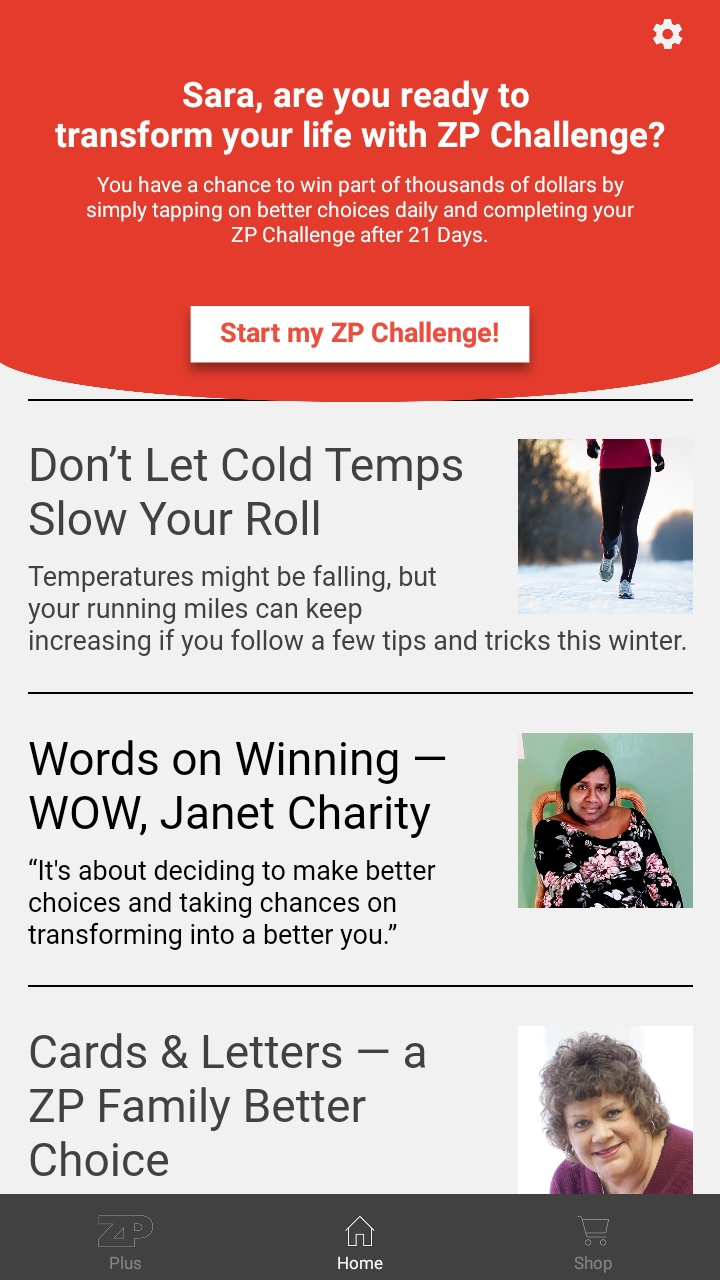Icon: (576, 1216, 610, 1247), (344, 1215, 375, 1247), (652, 19, 683, 51)
Image: (518, 733, 693, 909), (518, 439, 693, 614), (518, 1026, 693, 1194), (98, 1214, 155, 1248)
Text: (31, 1032, 426, 1177), (55, 80, 665, 156), (29, 740, 447, 839), (86, 176, 635, 248), (30, 446, 462, 536), (28, 858, 436, 951), (28, 566, 437, 625), (30, 629, 687, 657), (573, 1255, 612, 1274), (338, 1255, 384, 1270), (110, 1256, 142, 1270)
TextButton: (190, 306, 530, 364)
